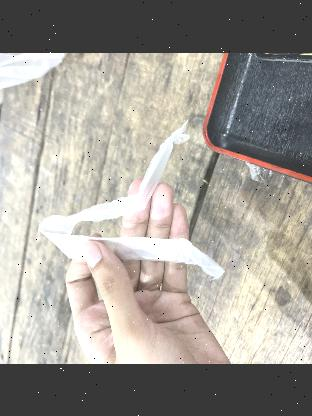Others: (38, 113, 226, 276)
